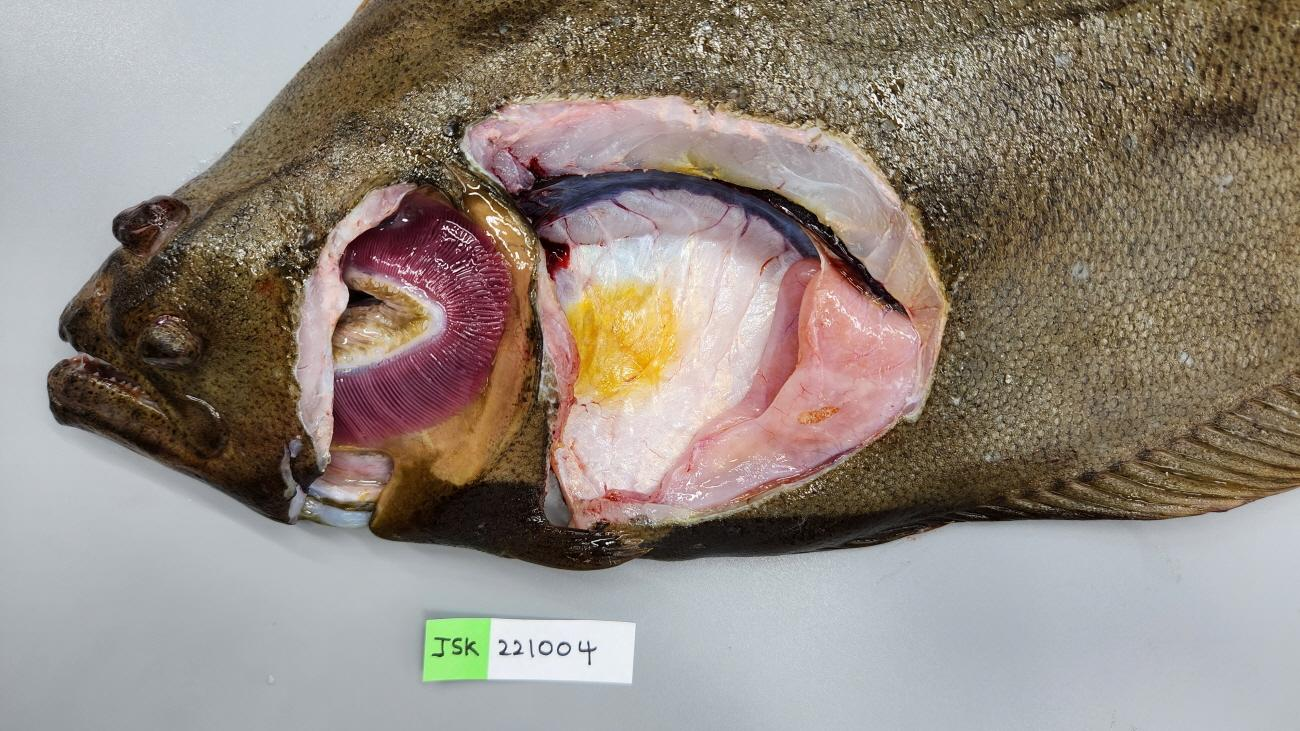POASN: (538, 186, 801, 503)
